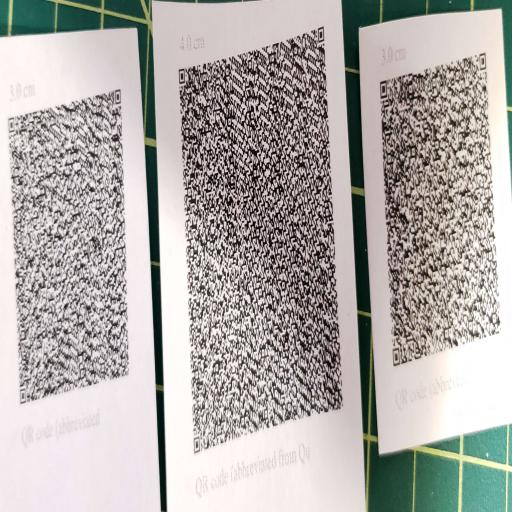QR_CODE: (171, 9, 349, 471), (1, 66, 139, 427), (372, 28, 505, 388)
